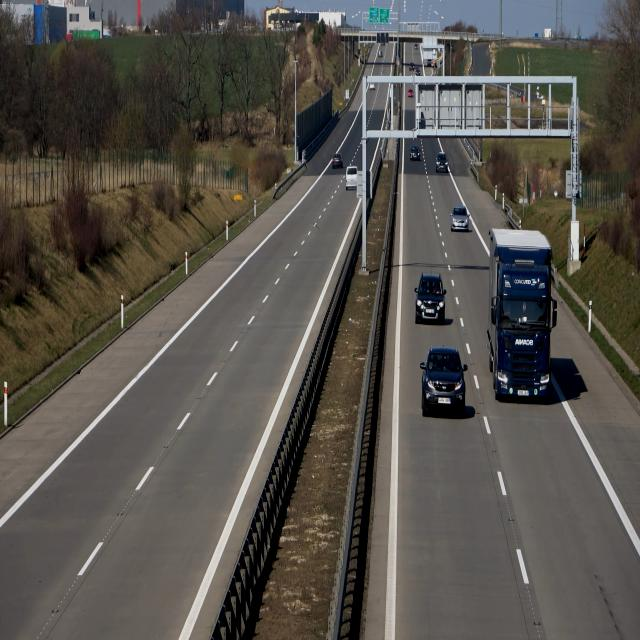Vehicle: (488, 229, 553, 402), (419, 348, 467, 418), (414, 270, 446, 325), (450, 204, 469, 233), (344, 166, 358, 191), (435, 152, 448, 173), (409, 144, 421, 162), (332, 152, 344, 170)
